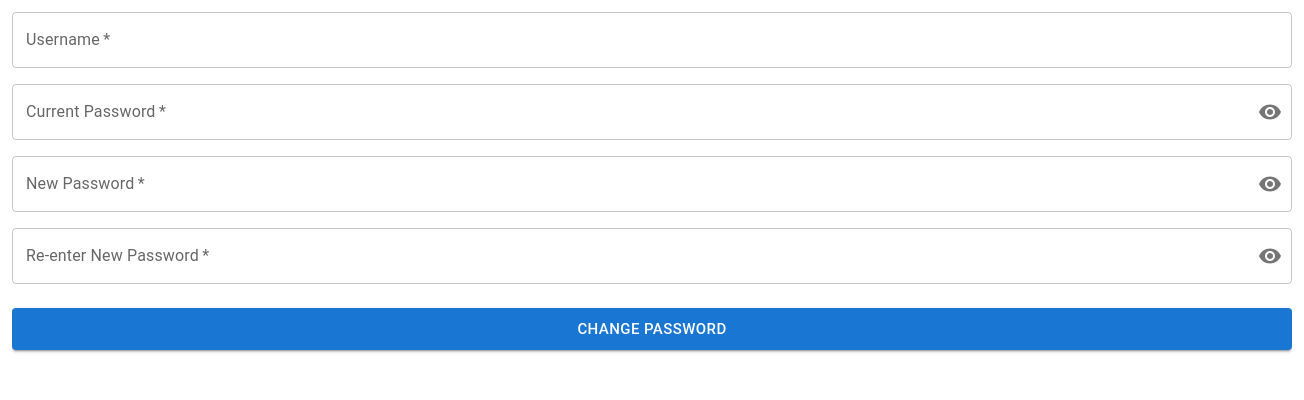
PasswordForm › enforces minimumDistance when configured
This screenshot has width=1304, height=400.
Type "jdoe" into the field labelled "Username *" at point(652, 40), box 12,12 -> 1292,68
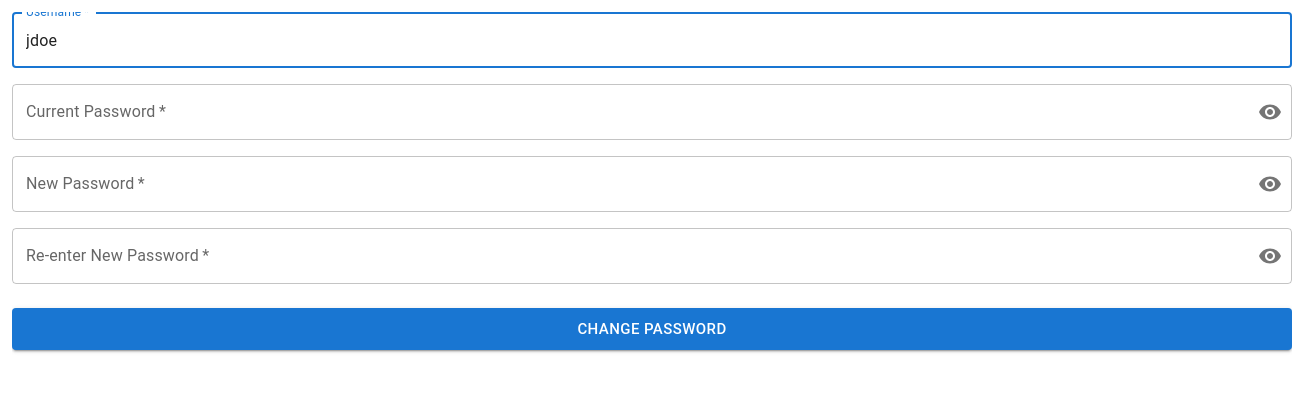
Type "Passw0rd!" into the password field labelled "Current Password *" at point(627, 112), box 12,84 -> 1242,140
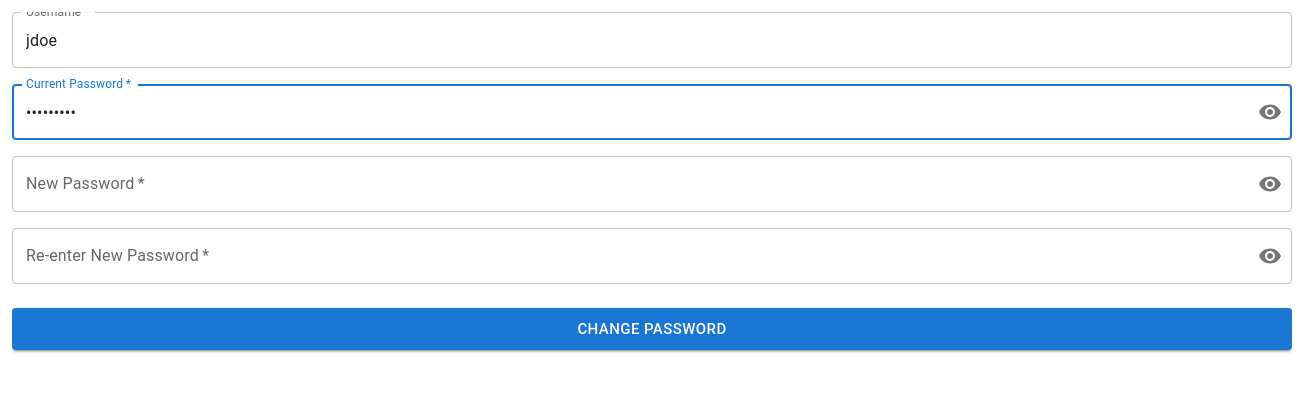
Type "Passw0rd@" into the password field labelled "New Password *" at point(627, 184), box 12,156 -> 1242,212
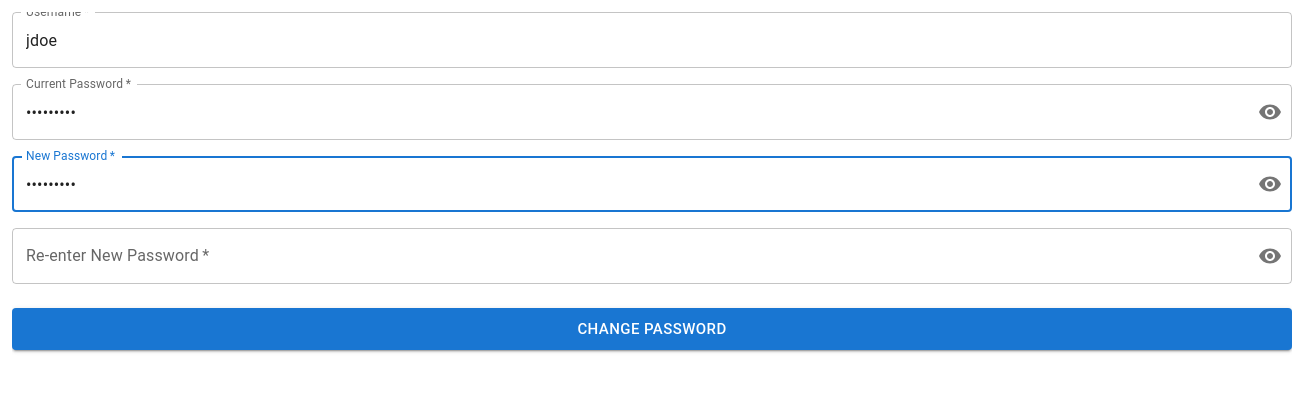
Type "Passw0rd@" into the password field labelled "Re-enter New Password *" at point(627, 256), box 12,228 -> 1242,284
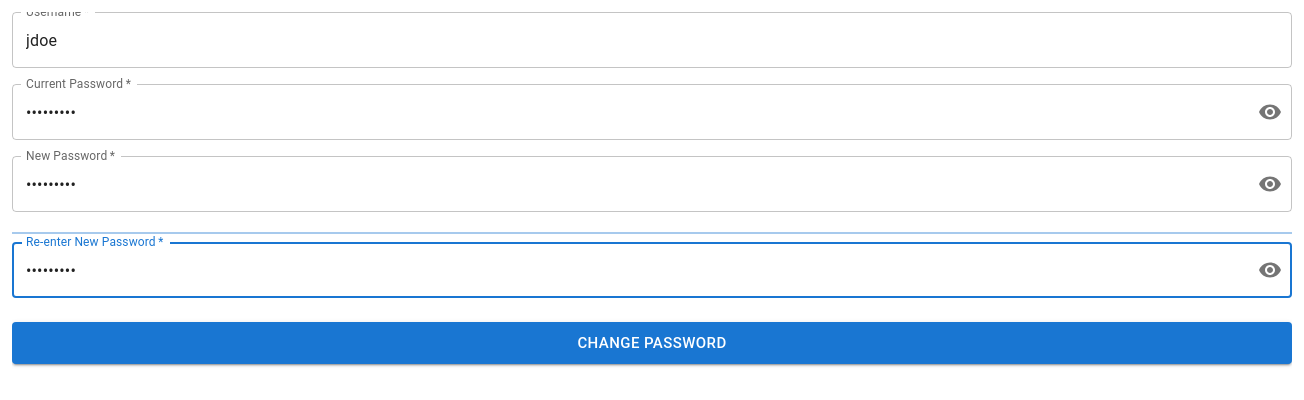
Click the button "Change Password" at point(652, 343), box 12,322 -> 1292,364
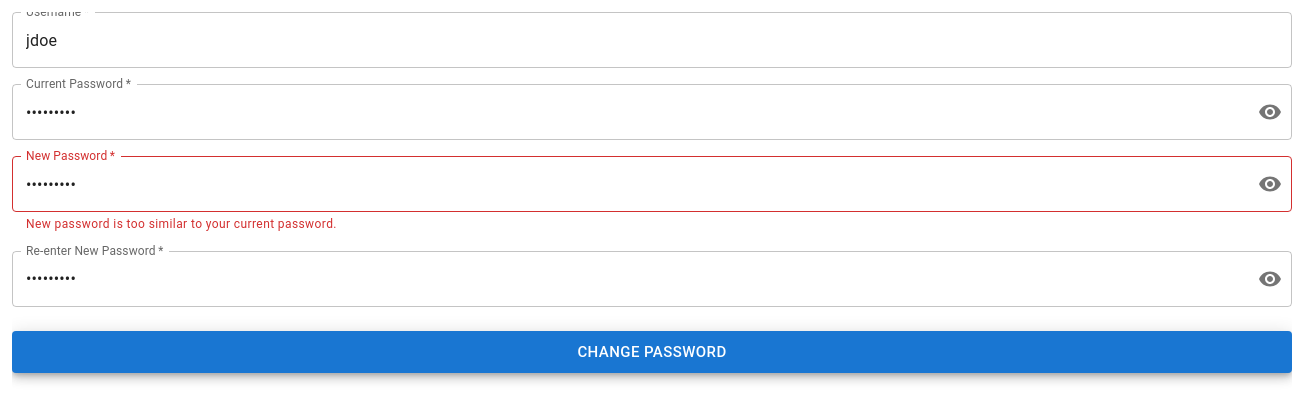
Expected: the text "New password is too similar to your current password." is shown, 26,217 -> 337,231
